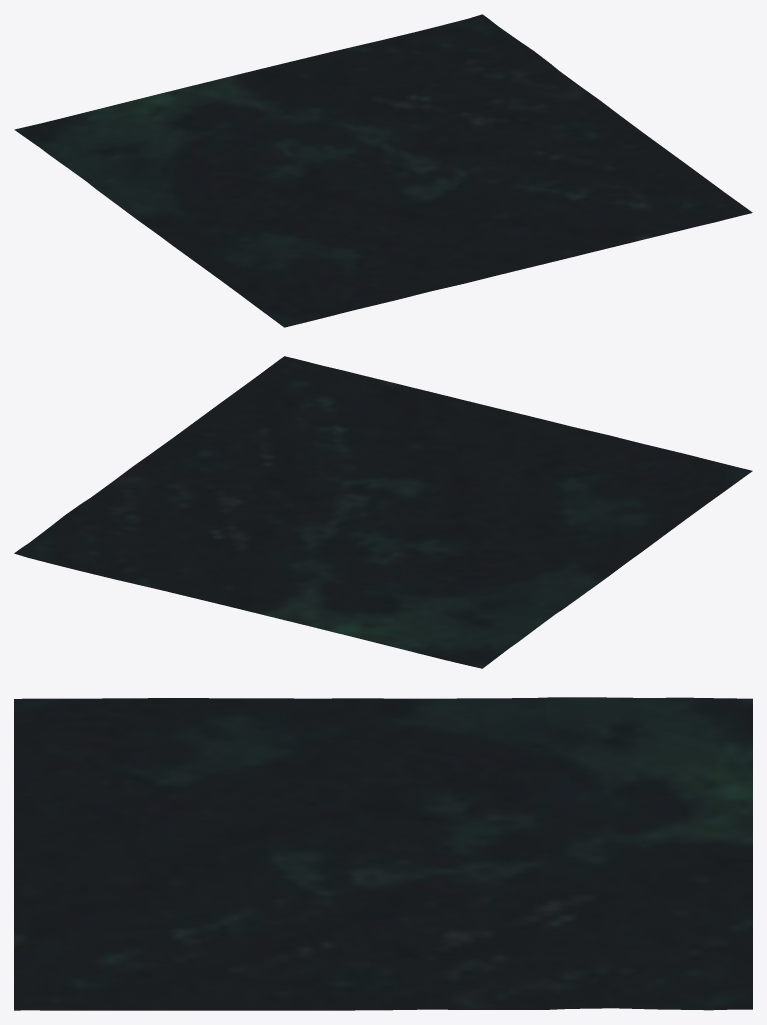
3 renders of one model, top to bottom at view 1: azimuth 30°, elevation 25°; view 2: azimuth 150°, elevation 25°; view 3: azimuth 270°, elevation 25°, orthographic. The views are drawn at different scales.
Bounding box in the file's own units: 52.22 × 0.3107 × 52.22.
Materials: 2 (2 with a texture image).
